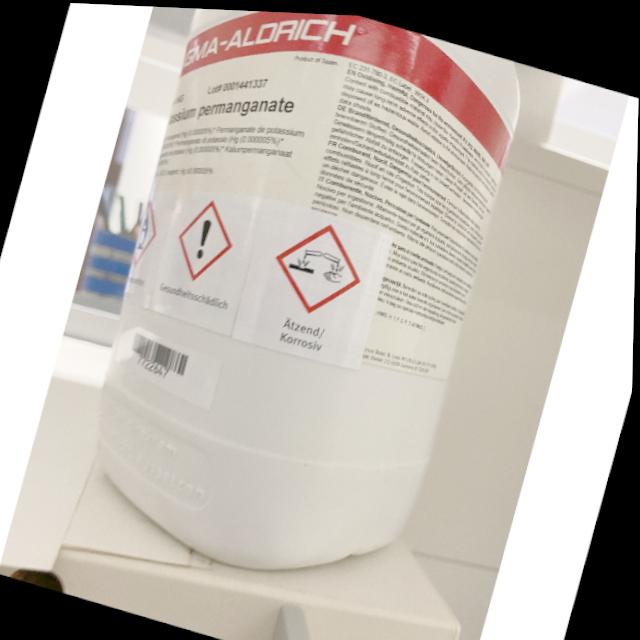corrosive: (287, 239, 350, 282)
health-ozone layer hazard: (193, 214, 216, 261)
